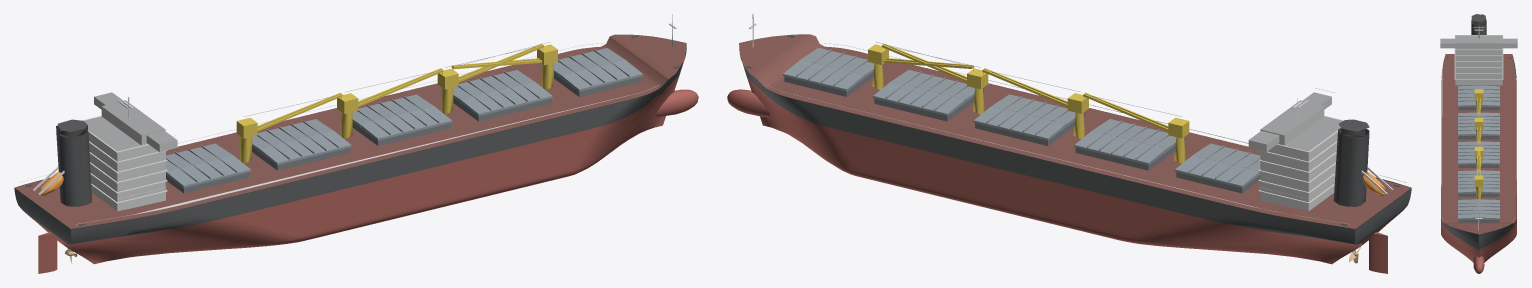
File: bulk.glb
3 renders of one model, left to right at view 1: azimuth 30°, elevation 25°; view 2: azimuth 150°, elevation 25°; view 3: azimuth 270°, elevation 25°, orthographic. The views are drawn at different scales.
Size of the model in its own units: 191 by 43.6 by 32.65.
